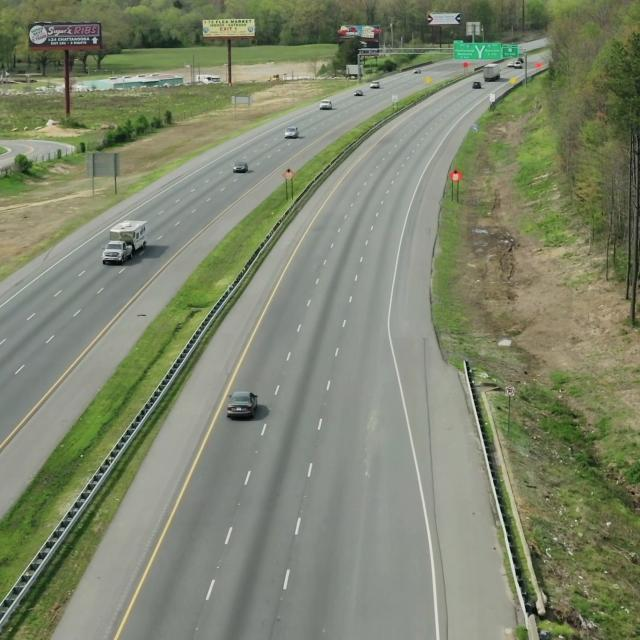Car: (104, 219, 150, 264), (227, 390, 261, 421)
